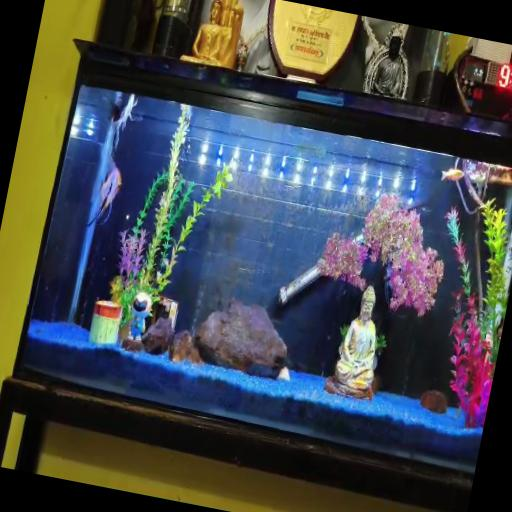Fish: (88, 161, 121, 226), (112, 95, 139, 153), (442, 168, 464, 181)
